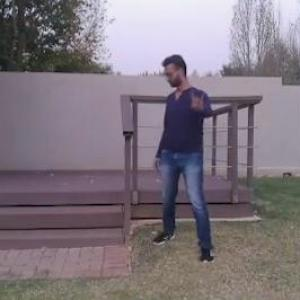takeoff-hand: (186, 85, 212, 115)
